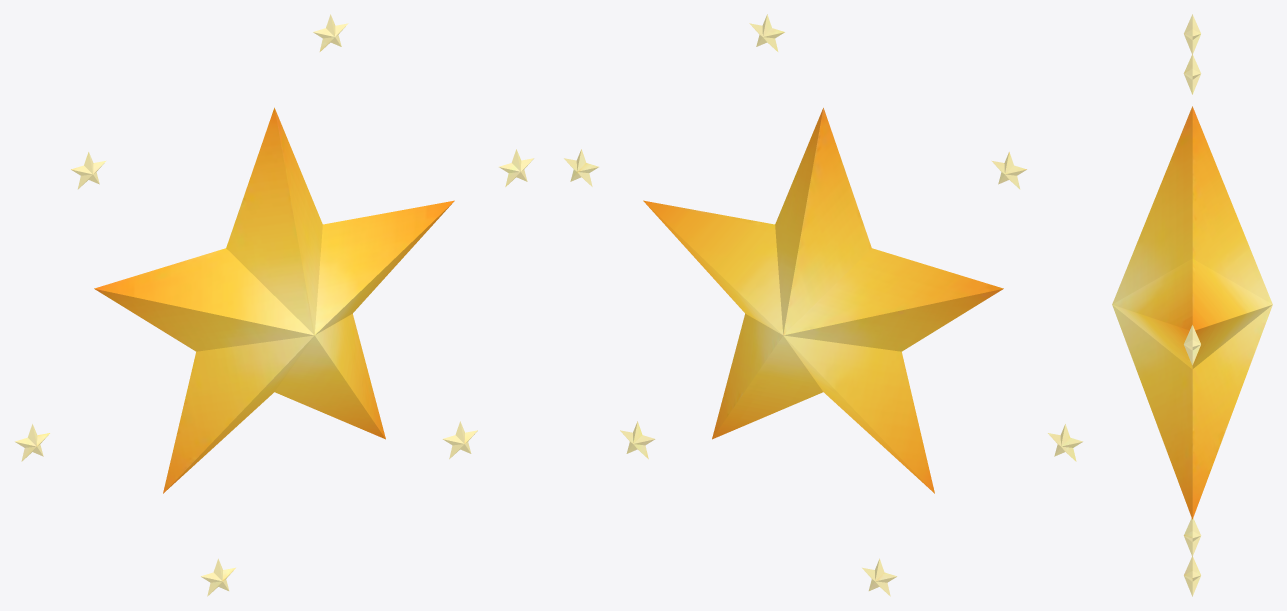
File: starcrystal.glb
The picture shows the model from 3 angles, left to right: view 1: azimuth 30°, elevation 25°; view 2: azimuth 150°, elevation 25°; view 3: azimuth 270°, elevation 25°; orthographic projection.
Parts seen in each view (by area): view 1: StarCrystal_Body; view 2: StarCrystal_Body; view 3: StarCrystal_Body.
Part boxes in pixels (x1,y1,x2,y2): StarCrystal_Body: [15, 14, 533, 596]; StarCrystal_Body: [564, 14, 1082, 596]; StarCrystal_Body: [1112, 14, 1272, 596].
Bounding box in the file's own units: 0.8213 × 0.8344 × 0.22.
1 material, 1 textured.
